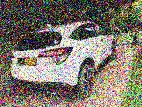car: (6, 17, 119, 96)
